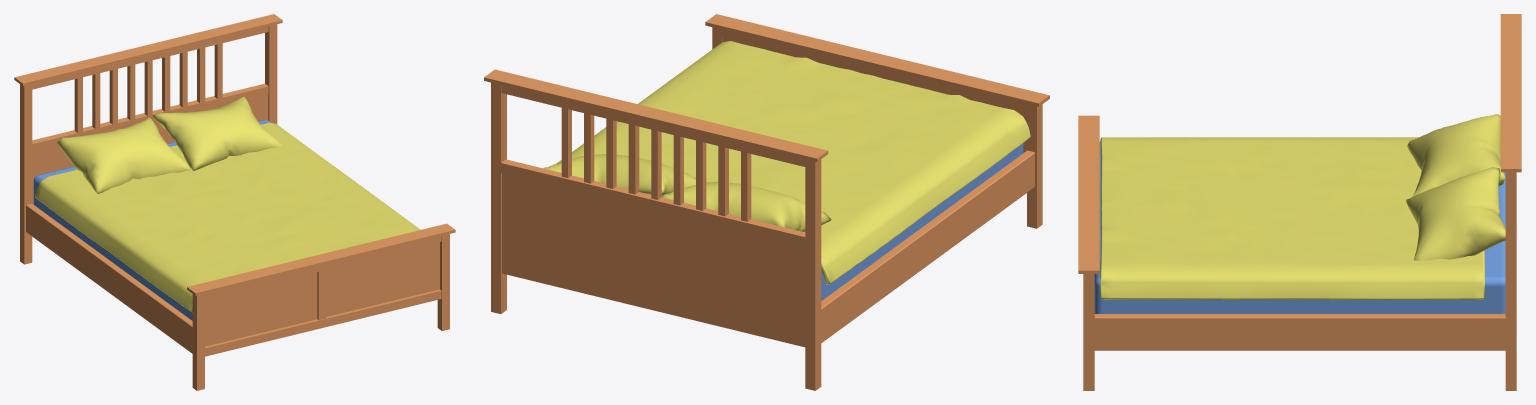
File: HEMNES.fbx
3 renders of one model, left to right at view 1: azimuth 30°, elevation 25°; view 2: azimuth 150°, elevation 25°; view 3: azimuth 270°, elevation 25°, orthographic. The views are drawn at different scales.
Parts seen in each view (by area): view 1: Plane.003, Cube.006, Cube.004, Cube.007, Cube.009, Cube.005, Cube.003; view 2: Cube.006, Plane.003, Cube.004, Cube.005, Cube.007, Cube.003, Cube.009; view 3: Plane.003, Cube.004, Cube.006, Cube.003, Cube.009, Cube.007.
Boxes of the visible parts, x1=… form: Plane.003: x1=35, y1=122, x2=420, y2=312; Cube.006: x1=14, y1=14, x2=455, y2=390; Cube.004: x1=26, y1=203, x2=192, y2=353; Cube.007: x1=57, y1=117, x2=191, y2=193; Cube.009: x1=152, y1=97, x2=282, y2=170; Cube.005: x1=74, y1=43, x2=222, y2=132; Cube.003: x1=33, y1=120, x2=271, y2=320; Cube.006: x1=484, y1=14, x2=1049, y2=390; Plane.003: x1=556, y1=41, x2=1030, y2=284; Cube.004: x1=821, y1=150, x2=1034, y2=342; Cube.005: x1=561, y1=108, x2=751, y2=221; Cube.007: x1=662, y1=181, x2=831, y2=231; Cube.003: x1=821, y1=143, x2=1023, y2=300; Cube.009: x1=543, y1=154, x2=695, y2=196; Plane.003: x1=1100, y1=137, x2=1484, y2=299; Cube.004: x1=1094, y1=314, x2=1505, y2=350; Cube.006: x1=1078, y1=14, x2=1521, y2=390; Cube.003: x1=1094, y1=141, x2=1505, y2=313; Cube.009: x1=1406, y1=167, x2=1505, y2=260; Cube.007: x1=1407, y1=114, x2=1505, y2=196.
Bounding box in the file's own units: 178 × 120 × 215.
